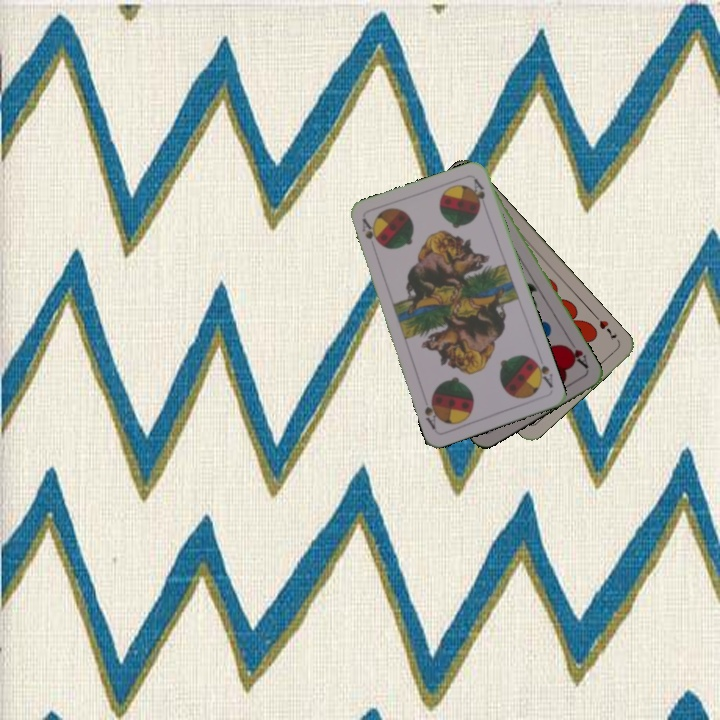H7: (595, 316, 620, 343)
HA: (561, 335, 591, 371)
SA: (529, 355, 556, 390), (358, 214, 381, 247)
